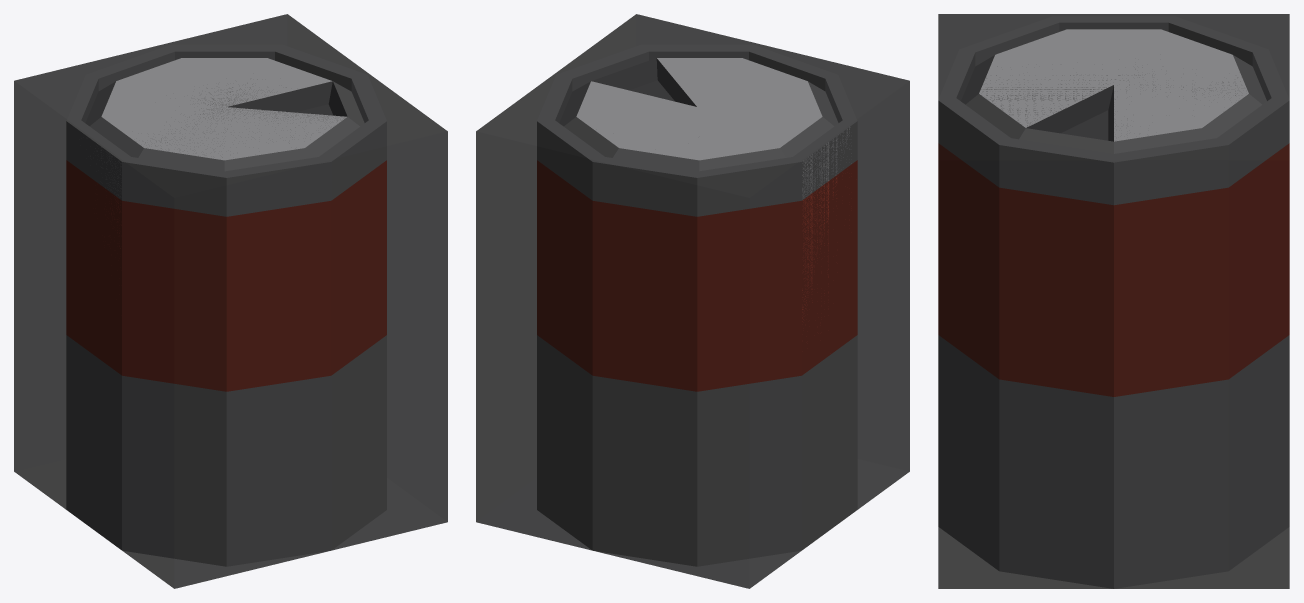
The model's file is Can.fbx.
The picture shows the model from 3 angles, left to right: view 1: azimuth 30°, elevation 25°; view 2: azimuth 150°, elevation 25°; view 3: azimuth 270°, elevation 25°; orthographic projection. The views are drawn at different scales.
Visible parts, largest first — view 1: Can_BBox, Can; view 2: Can_BBox, Can; view 3: Can, Can_BBox.
Boxes of the visible parts, x1,y1,x2,y2 form: Can_BBox: (14, 14, 447, 588); Can: (66, 44, 386, 566); Can_BBox: (476, 14, 909, 588); Can: (537, 44, 857, 566); Can: (938, 16, 1289, 588); Can_BBox: (938, 14, 1289, 588).
Bounding box in the file's own units: 0.4729 × 0.6461 × 0.4802.
